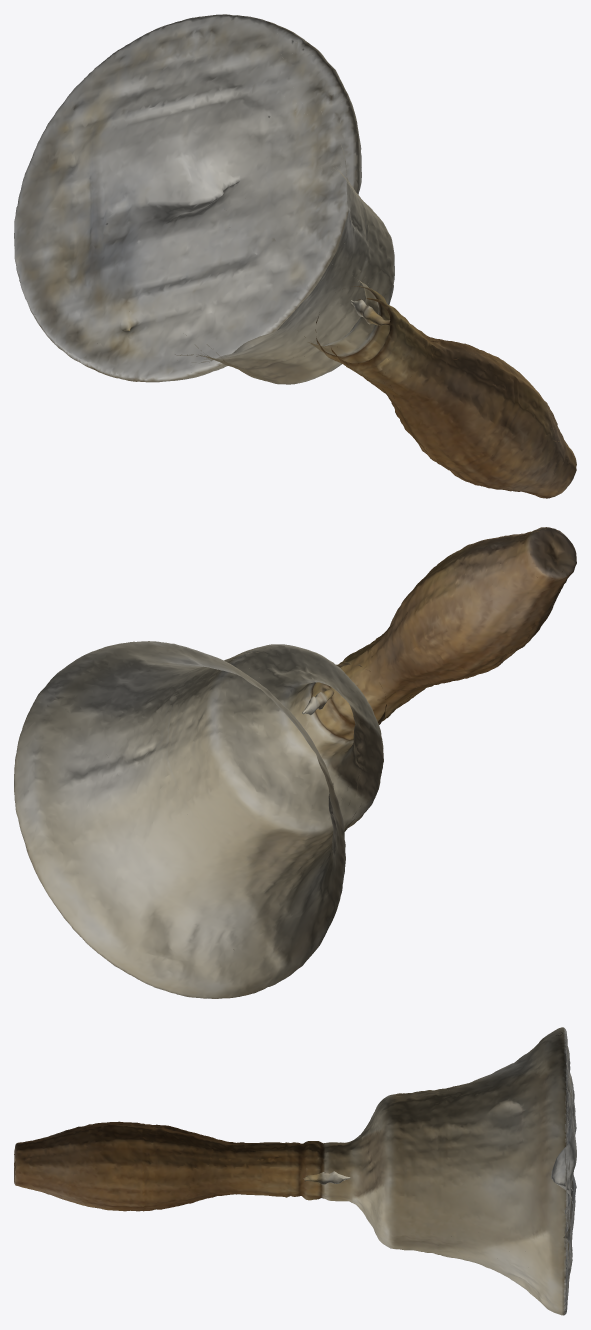
Rendered from bell.glb.
The picture shows the model from 3 angles, top to bottom: view 1: azimuth 30°, elevation 25°; view 2: azimuth 150°, elevation 25°; view 3: azimuth 270°, elevation 25°; orthographic projection. The views are drawn at different scales.
Bounding box in the file's own units: 0.51 × 0.5117 × 1.
